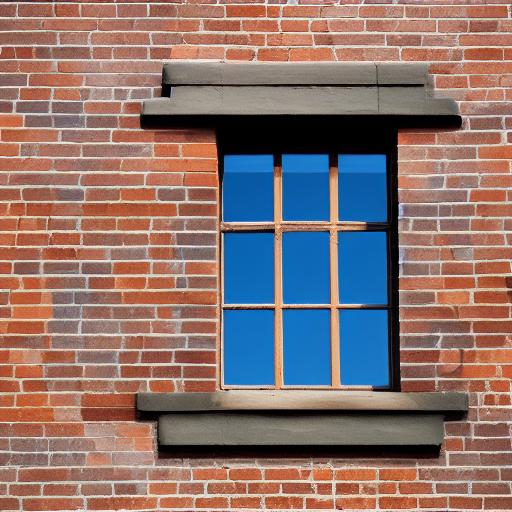Window: (136, 57, 472, 459)
